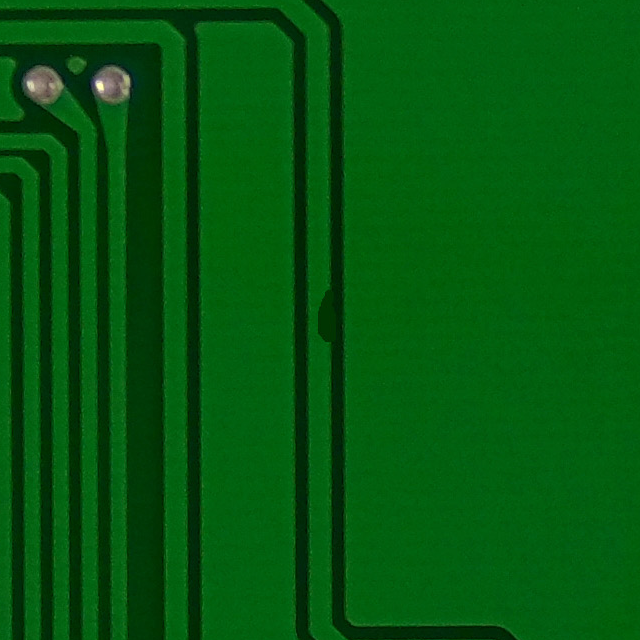mouse_bite: (299, 278, 342, 362)
